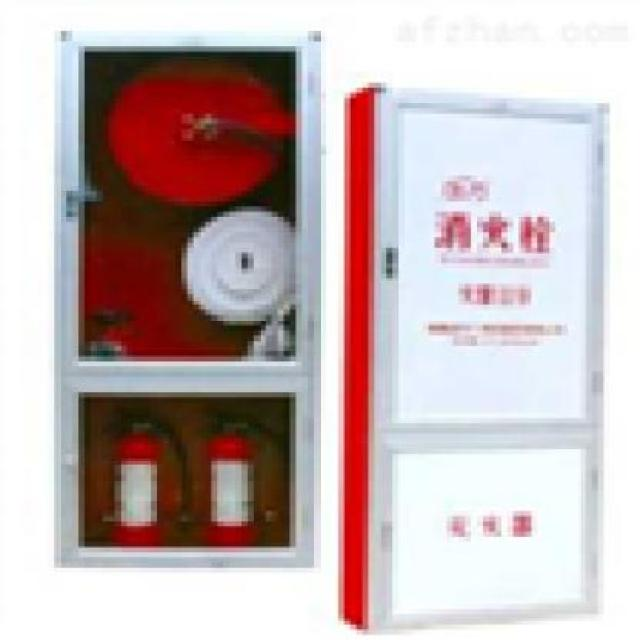firehydrant: (332, 74, 614, 636), (49, 23, 331, 574)
